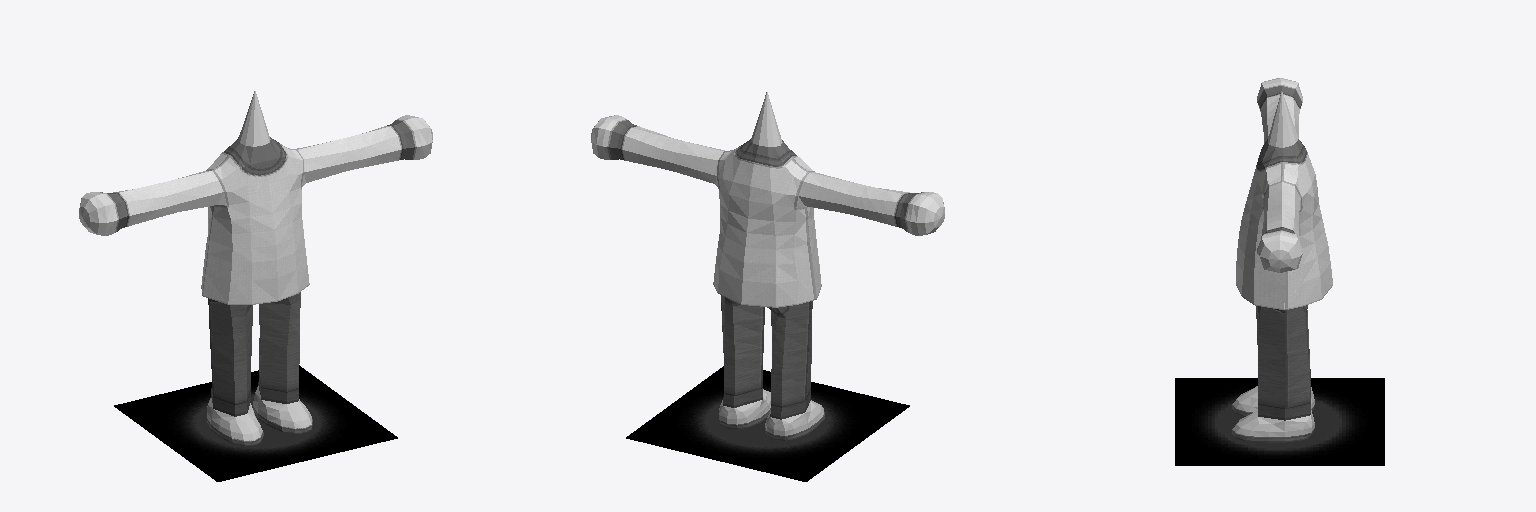
3 renders of one model, left to right at view 1: azimuth 30°, elevation 25°; view 2: azimuth 150°, elevation 25°; view 3: azimuth 270°, elevation 25°, orthographic.
Visible parts, largest first — view 1: name.002_name.008, name.001_name.007, name_name.006, name.003_name.011; view 2: name.002_name.008, name.001_name.007, name_name.006, name.003_name.011; view 3: name.002_name.008, name.001_name.007, name_name.006, name.003_name.011.
Boxes of the visible parts, <box> form: name.002_name.008: <box>79,91,432,304</box>; name.001_name.007: <box>114,365,397,481</box>; name_name.006: <box>208,292,300,416</box>; name.003_name.011: <box>207,386,312,445</box>; name.002_name.008: <box>591,92,944,307</box>; name.001_name.007: <box>626,366,909,481</box>; name_name.006: <box>721,295,812,419</box>; name.003_name.011: <box>719,389,824,440</box>; name.002_name.008: <box>1236,78,1332,309</box>; name.001_name.007: <box>1175,378,1384,465</box>; name_name.006: <box>1256,305,1310,420</box>; name.003_name.011: <box>1232,386,1314,442</box>.
Size of the model in its own units: 14.34 by 13.12 by 7.5.
4 materials, 4 textured.